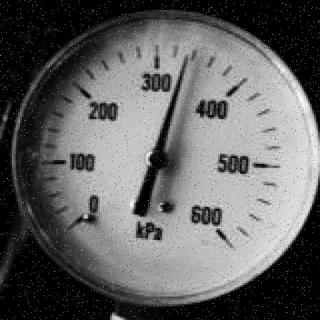gauge: (0, 0, 320, 320), (186, 203, 246, 259), (60, 191, 108, 241), (146, 148, 170, 171), (178, 49, 194, 69)
